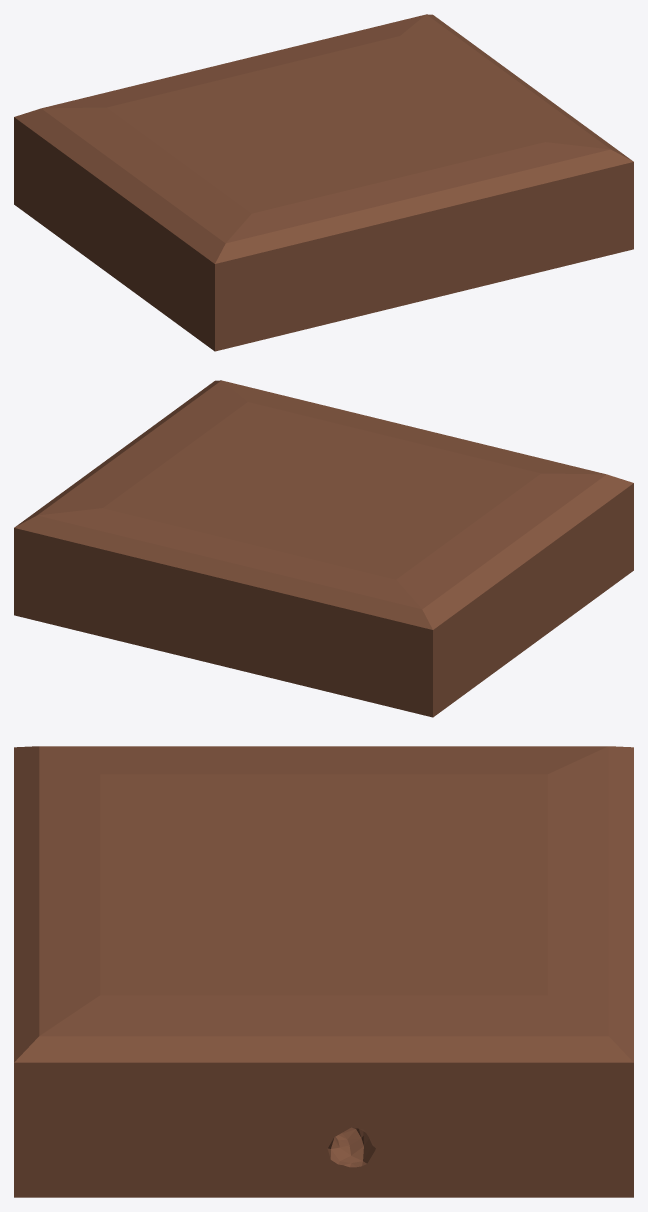
Rendered from BigCaveExact.fbx.
The picture shows the model from 3 angles, top to bottom: view 1: azimuth 30°, elevation 25°; view 2: azimuth 150°, elevation 25°; view 3: azimuth 270°, elevation 25°; orthographic projection. The views are drawn at different scales.
Parts seen in each view (by area): view 1: ExactCave; view 2: ExactCave; view 3: ExactCave.
Part boxes in pixels (left/top/right/bottom): ExactCave: left=14, top=14, right=633, bottom=351; ExactCave: left=14, top=380, right=633, bottom=717; ExactCave: left=14, top=746, right=633, bottom=1197.
Size of the model in its own units: 1751 by 406 by 1454.
